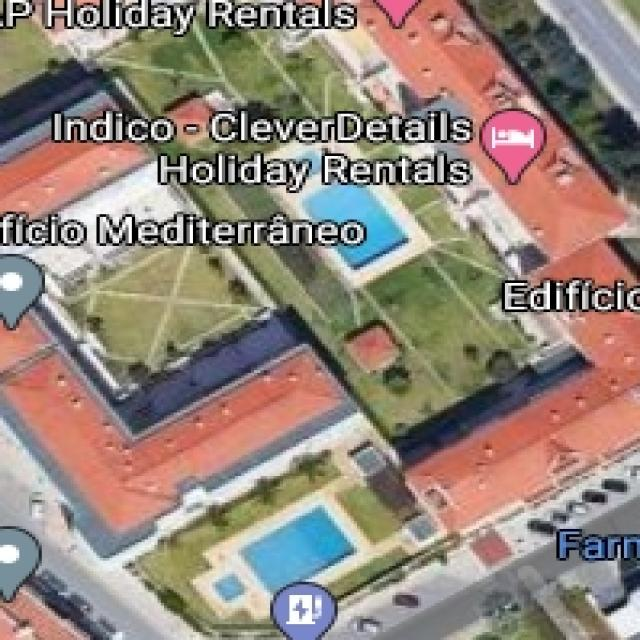pool: (260, 142, 428, 286), (202, 497, 368, 613)
